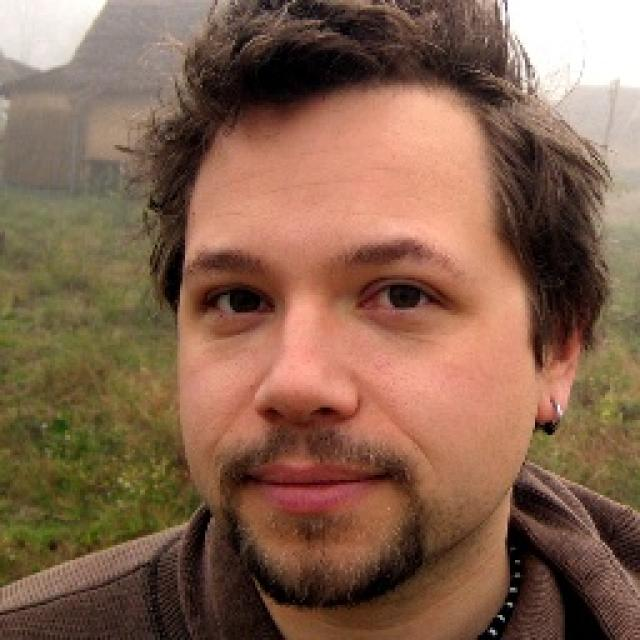earlobe: (534, 367, 572, 427)
eye: (356, 280, 436, 314), (205, 286, 273, 316)
nose: (249, 396, 359, 468)
